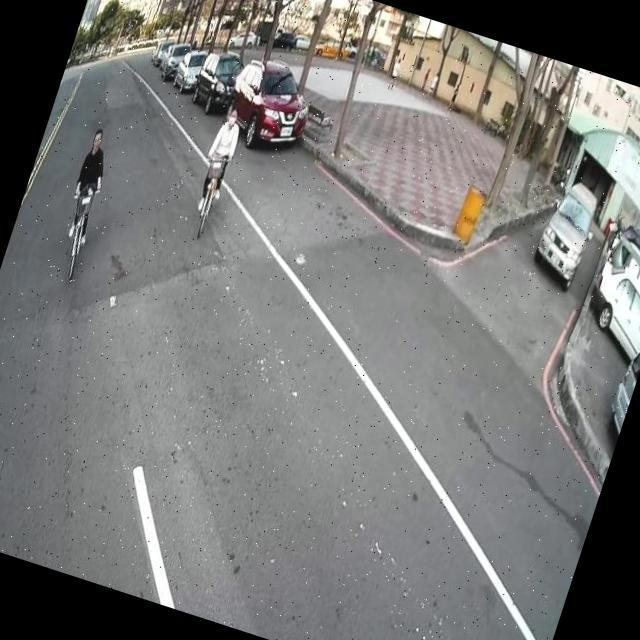person: (57, 122, 123, 249), (188, 102, 252, 219)
